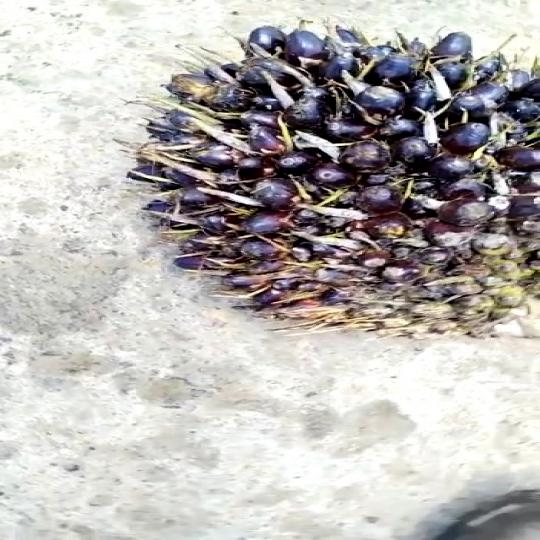mentah: (130, 9, 540, 359)
